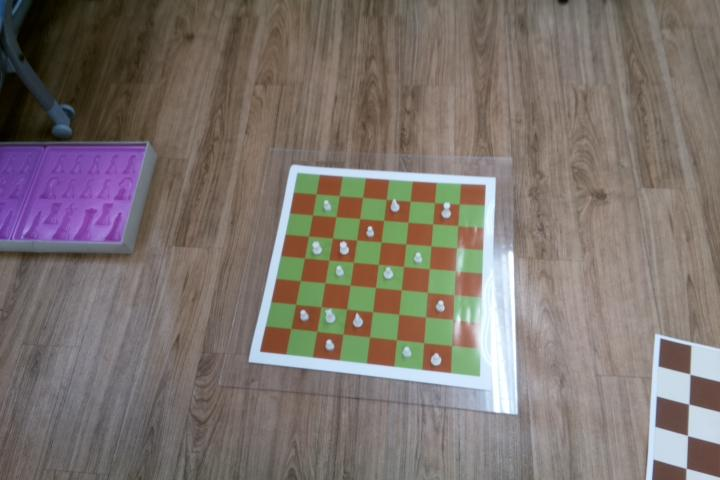chessboard-detect: (259, 173, 485, 376)
